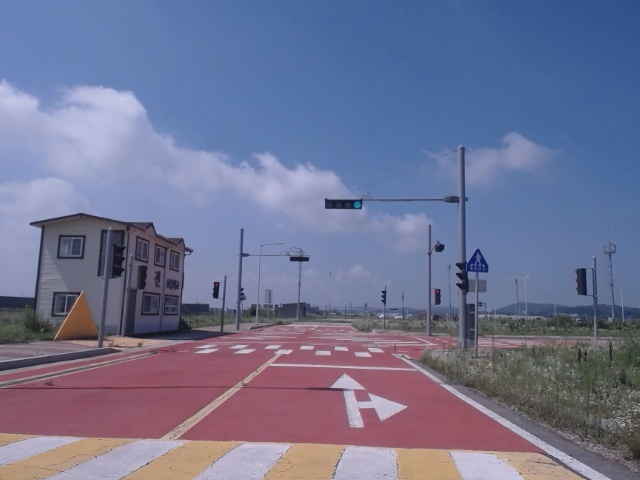straight_green_4: (324, 200, 363, 210)
